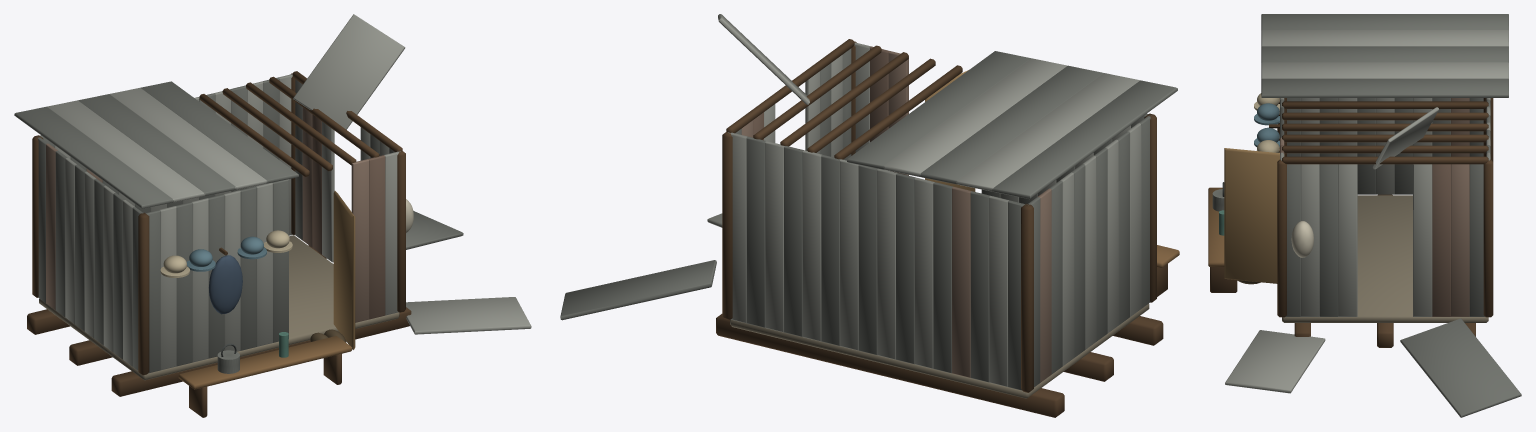
The model's file is change_house_b.glb.
The picture shows the model from 3 angles, left to right: view 1: azimuth 30°, elevation 25°; view 2: azimuth 150°, elevation 25°; view 3: azimuth 270°, elevation 25°; orthographic projection. The views are drawn at different scales.
Visible parts, largest first — view 1: Surface; view 2: Surface; view 3: Surface.
Boxes of the visible parts, bbox=[...] form: Surface: bbox=[14, 14, 531, 417]; Surface: bbox=[560, 14, 1179, 417]; Surface: bbox=[1208, 14, 1521, 417].
Bounding box in the file's own units: 7.03 × 4.07 × 4.56.
